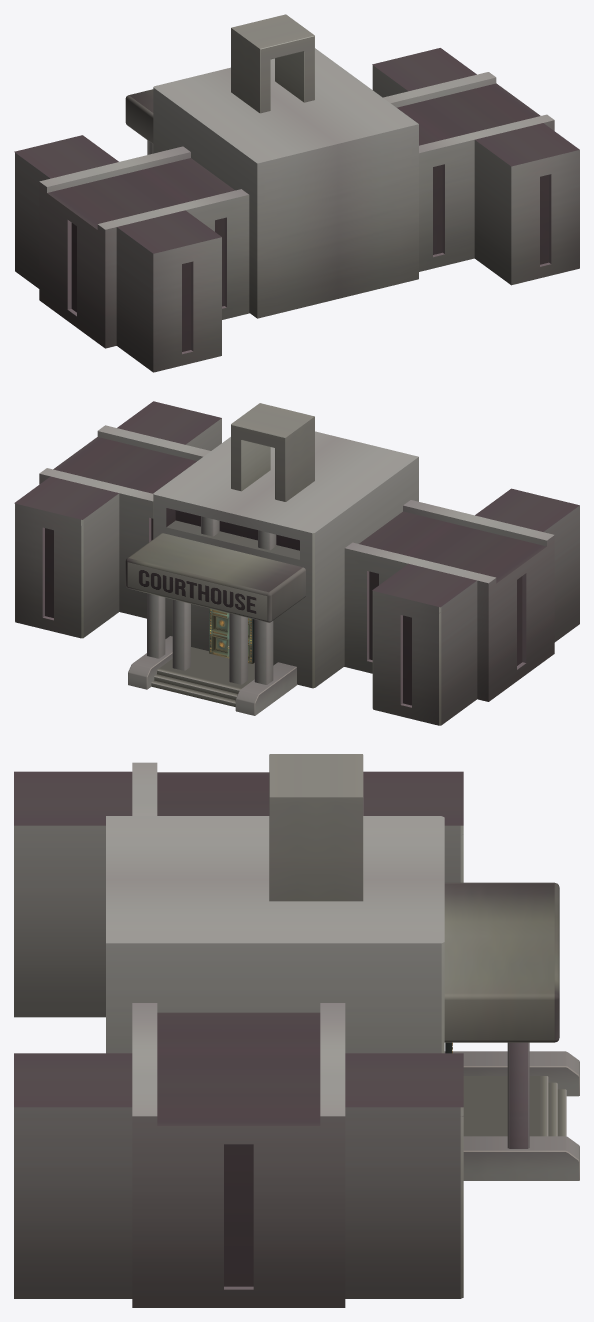
The model's file is courthouse_lp.FBX.
3 renders of one model, top to bottom at view 1: azimuth 30°, elevation 25°; view 2: azimuth 150°, elevation 25°; view 3: azimuth 270°, elevation 25°, orthographic. The views are drawn at different scales.
Visible parts, largest first — view 1: courthouse_lp; view 2: courthouse_lp; view 3: courthouse_lp.
Part boxes in pixels (x1,y1,x2,y2): courthouse_lp: (14,14,579,372); courthouse_lp: (14,401,579,725); courthouse_lp: (14,754,579,1307).
Size of the model in its own units: 797 by 373 by 539.
